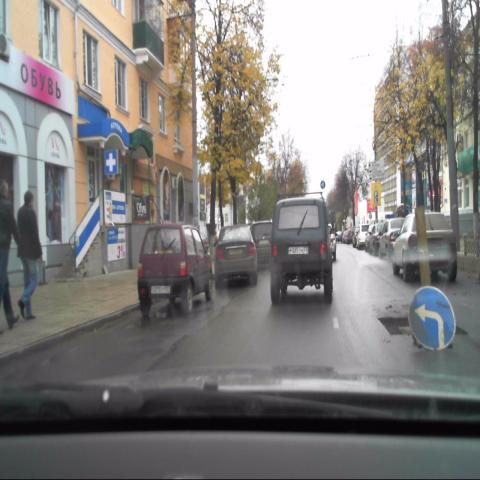4_1_3: (408, 286, 457, 352)
